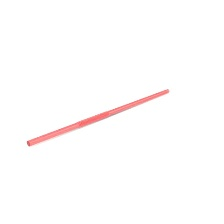drinking_straw: (21, 83, 175, 151)
